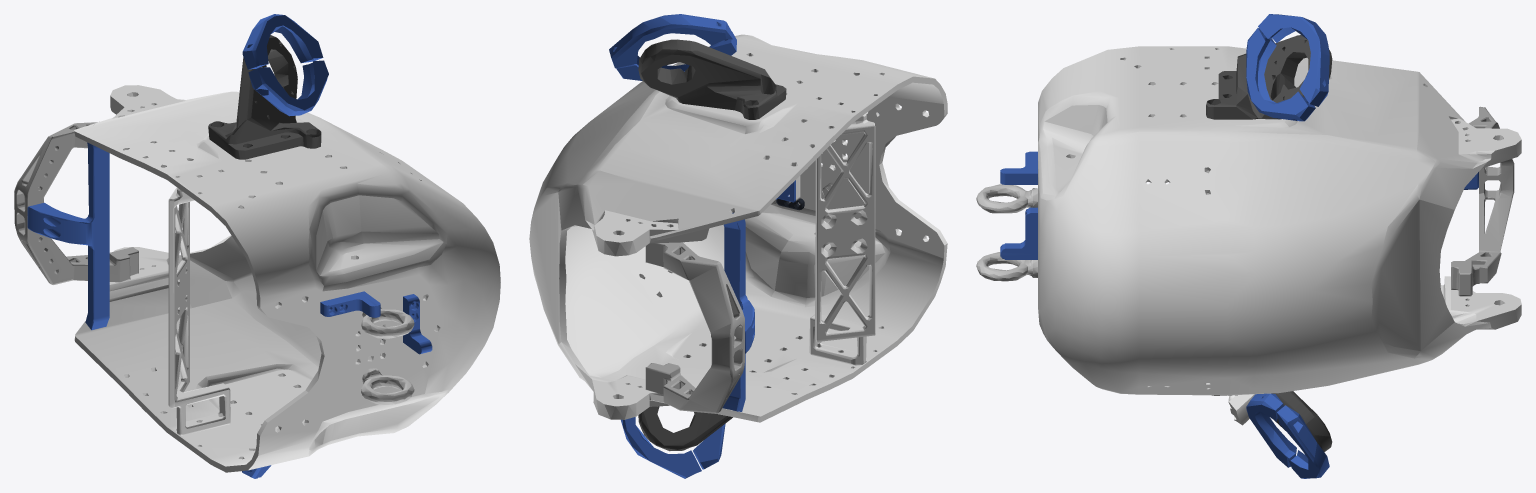
File: torso.obj
The picture shows the model from 3 angles, left to right: view 1: azimuth 30°, elevation 25°; view 2: azimuth 150°, elevation 25°; view 3: azimuth 270°, elevation 25°; orthographic projection.
Visible parts, largest first — view 1: N16_17_P02_01_Torso_Shell, N16_17_P05_09_Manifold_Mount, N16_17_P05_07_Lower_Pitch_Mount, N16_24_P02_53_Torso_Arm_Mount_Base_Left, N16_17_P05_08_Upper_Pitch_Mount, N16_24_P02_05_Marman_Clamp___Thread, 3040T130, N16_24_P02_04_Marman_Clamp___Thru, N16_17_P05_06_Laser_Mount; view 2: N16_17_P02_01_Torso_Shell, N16_17_P05_09_Manifold_Mount, N16_17_P05_07_Lower_Pitch_Mount, N16_24_P02_53_Torso_Arm_Mount_Base_Left, N16_24_P02_05_Marman_Clamp___Thread, N16_17_P05_08_Upper_Pitch_Mount, N16_24_P02_04_Marman_Clamp___Thru, N16_24_P02_03_Torso_Arm_Mount_Base_Right; view 3: N16_17_P02_01_Torso_Shell, N16_24_P02_04_Marman_Clamp___Thru, N16_24_P02_05_Marman_Clamp___Thread, N16_17_P05_07_Lower_Pitch_Mount, N16_24_P02_53_Torso_Arm_Mount_Base_Left, 3040T130, N16_17_P05_06_Laser_Mount, N16_24_P02_03_Torso_Arm_Mount_Base_Right.
Part boxes in pixels (box(x1,y1,x2,y2)): N16_17_P02_01_Torso_Shell: box(74, 85, 500, 472); N16_17_P05_09_Manifold_Mount: box(168, 187, 230, 435); N16_17_P05_07_Lower_Pitch_Mount: box(14, 121, 138, 284); N16_24_P02_53_Torso_Arm_Mount_Base_Left: box(208, 35, 321, 159); N16_17_P05_08_Upper_Pitch_Mount: box(27, 142, 109, 330); N16_24_P02_05_Marman_Clamp___Thread: box(242, 14, 323, 478); 3040T130: box(361, 307, 414, 404); N16_24_P02_04_Marman_Clamp___Thru: box(248, 60, 328, 477); N16_17_P05_06_Laser_Mount: box(320, 291, 432, 354); N16_17_P02_01_Torso_Shell: box(529, 34, 947, 422); N16_17_P05_09_Manifold_Mount: box(809, 113, 875, 365); N16_17_P05_07_Lower_Pitch_Mount: box(645, 242, 744, 413); N16_24_P02_53_Torso_Arm_Mount_Base_Left: box(638, 39, 786, 119); N16_24_P02_05_Marman_Clamp___Thread: box(609, 14, 732, 469); N16_17_P05_08_Upper_Pitch_Mount: box(722, 212, 754, 411); N16_24_P02_04_Marman_Clamp___Thru: box(616, 31, 736, 478); N16_24_P02_03_Torso_Arm_Mount_Base_Right: box(638, 406, 732, 451); N16_17_P02_01_Torso_Shell: box(1038, 46, 1521, 395); N16_24_P02_04_Marman_Clamp___Thru: box(1246, 28, 1329, 478); N16_24_P02_05_Marman_Clamp___Thread: box(1246, 14, 1329, 467); N16_17_P05_07_Lower_Pitch_Mount: box(1451, 106, 1514, 296); N16_24_P02_53_Torso_Arm_Mount_Base_Left: box(1206, 35, 1332, 119); 3040T130: box(976, 184, 1037, 281); N16_17_P05_06_Laser_Mount: box(1000, 151, 1037, 259); N16_24_P02_03_Torso_Arm_Mount_Base_Right: box(1212, 391, 1332, 451).
Bounding box in the file's own units: 0.277 × 0.406 × 0.432.
